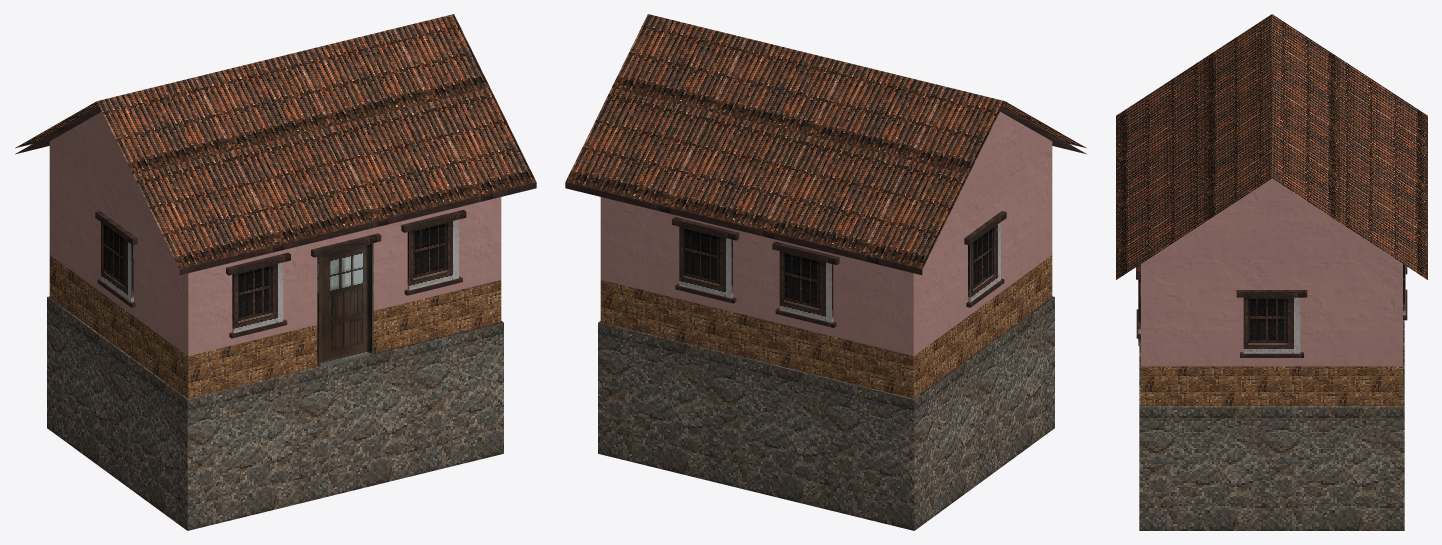
Rendered from 06_pueblo_rosa_teja.glb.
The picture shows the model from 3 angles, left to right: view 1: azimuth 30°, elevation 25°; view 2: azimuth 150°, elevation 25°; view 3: azimuth 270°, elevation 25°; orthographic projection. The views are drawn at different scales.
Parts seen in each view (by area): view 1: 06_pueblo_rosa_teja; view 2: 06_pueblo_rosa_teja; view 3: 06_pueblo_rosa_teja.
Part boxes in pixels (left/top/right/bottom): 06_pueblo_rosa_teja: left=15, top=14, right=536, bottom=530; 06_pueblo_rosa_teja: left=565, top=14, right=1086, bottom=530; 06_pueblo_rosa_teja: left=1116, top=14, right=1427, bottom=530.
Size of the model in its own units: 6.84 by 7.02 by 5.48.
Materials: 7 (7 with a texture image).
